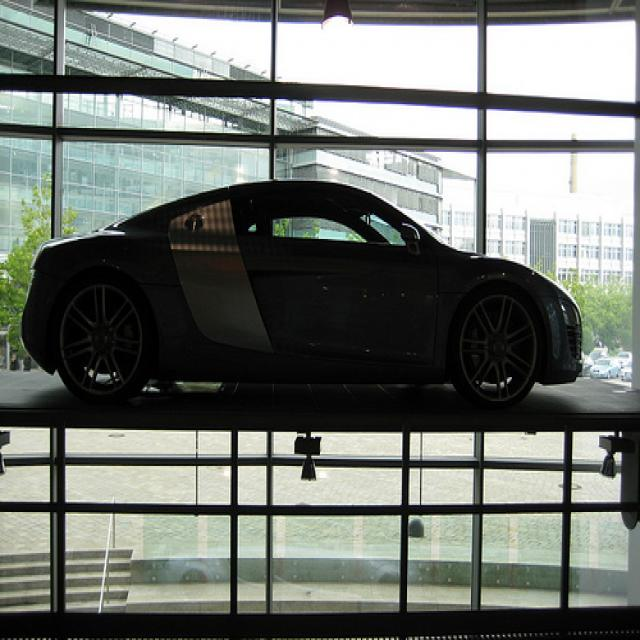Car: (17, 180, 589, 405)
